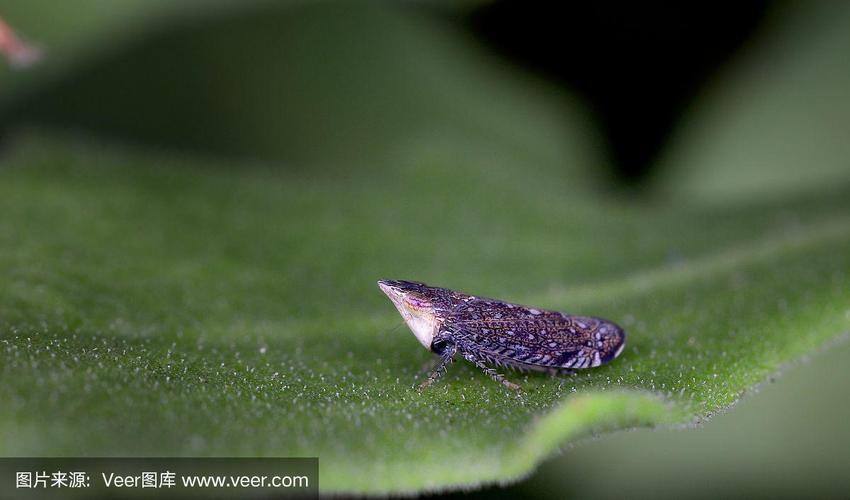Cicadellidae: (378, 278, 625, 388)
